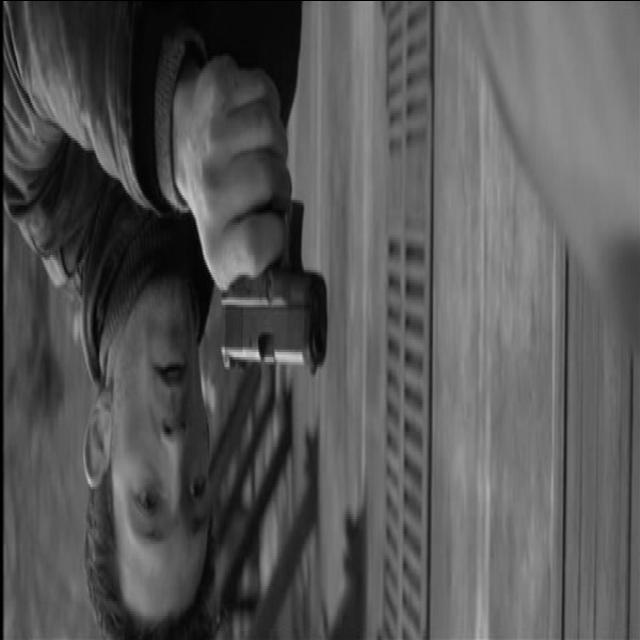weapons: (205, 48, 338, 398)
